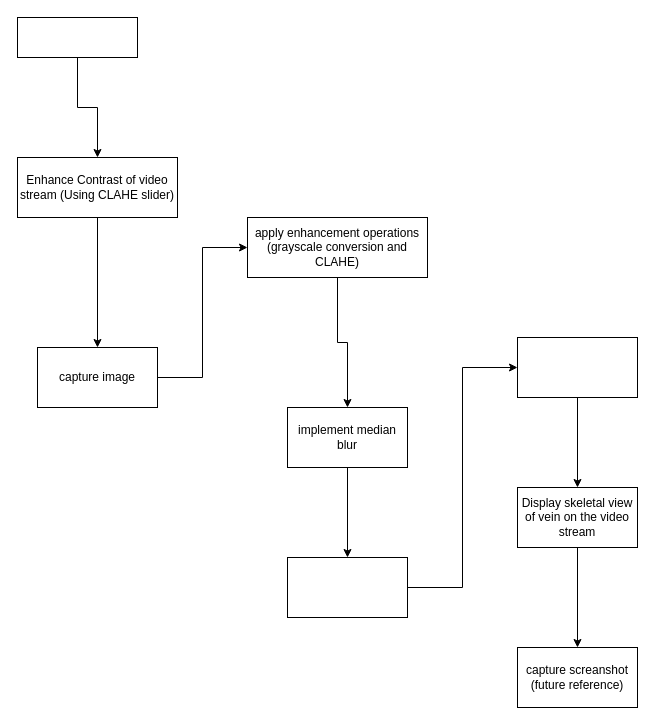
Some shapes in this 655 by 725 pixel diagram are drawn without their labels. Here are the shapes that lost their labels. From the top down, the centre of each, then its label:
At [77,37]: "Begin Program".
At [577,367]: "create contours and draw contrours on the image".
At [347,587]: "apply adaptive thresholding".
